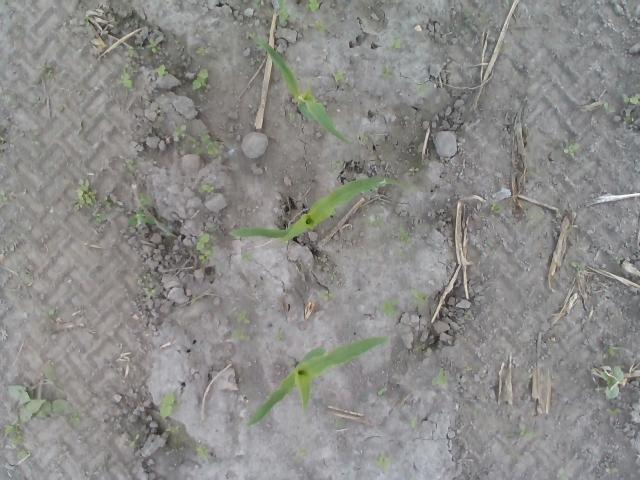Maize: (243, 336, 393, 432), (224, 177, 402, 244), (253, 32, 355, 144)
Weeds: (3, 383, 80, 426), (174, 125, 224, 157), (72, 176, 112, 209), (225, 308, 257, 344), (1, 427, 32, 462), (128, 192, 156, 230), (116, 46, 138, 90), (600, 363, 624, 400), (194, 232, 214, 266), (137, 271, 160, 298), (159, 390, 182, 417), (373, 447, 395, 474), (511, 422, 539, 441), (376, 298, 400, 318), (312, 16, 338, 33), (191, 68, 209, 92), (86, 208, 112, 224), (398, 222, 414, 246), (431, 366, 449, 387), (602, 344, 624, 361), (40, 303, 60, 321), (382, 31, 402, 48), (360, 214, 384, 228), (408, 288, 429, 304), (294, 446, 311, 464), (378, 64, 397, 80), (38, 366, 57, 382), (145, 36, 160, 56), (37, 62, 53, 80), (621, 93, 640, 108), (154, 64, 174, 78), (192, 442, 208, 459), (319, 287, 336, 303), (599, 100, 618, 114), (128, 431, 142, 450), (463, 7, 473, 33), (489, 202, 505, 218), (272, 330, 288, 346), (400, 180, 418, 194), (621, 111, 640, 124), (305, 0, 322, 14), (240, 250, 257, 264), (0, 190, 13, 208), (198, 181, 217, 193), (564, 143, 577, 159), (0, 95, 18, 106), (416, 80, 428, 96), (335, 68, 348, 82), (280, 16, 298, 26), (606, 407, 624, 417), (354, 134, 370, 145), (404, 166, 420, 177), (335, 159, 344, 178), (165, 423, 182, 433), (126, 160, 136, 176), (558, 464, 568, 480), (196, 46, 209, 58), (407, 415, 418, 428), (376, 386, 388, 397), (286, 111, 298, 122), (570, 260, 582, 271), (32, 96, 40, 112), (335, 419, 345, 430), (464, 311, 474, 322), (83, 15, 91, 28), (247, 30, 257, 40), (501, 0, 513, 8), (255, 0, 266, 8), (328, 271, 337, 280), (157, 128, 165, 138), (463, 366, 472, 374), (431, 303, 437, 314), (159, 222, 169, 228), (279, 240, 289, 244), (282, 47, 288, 53)
